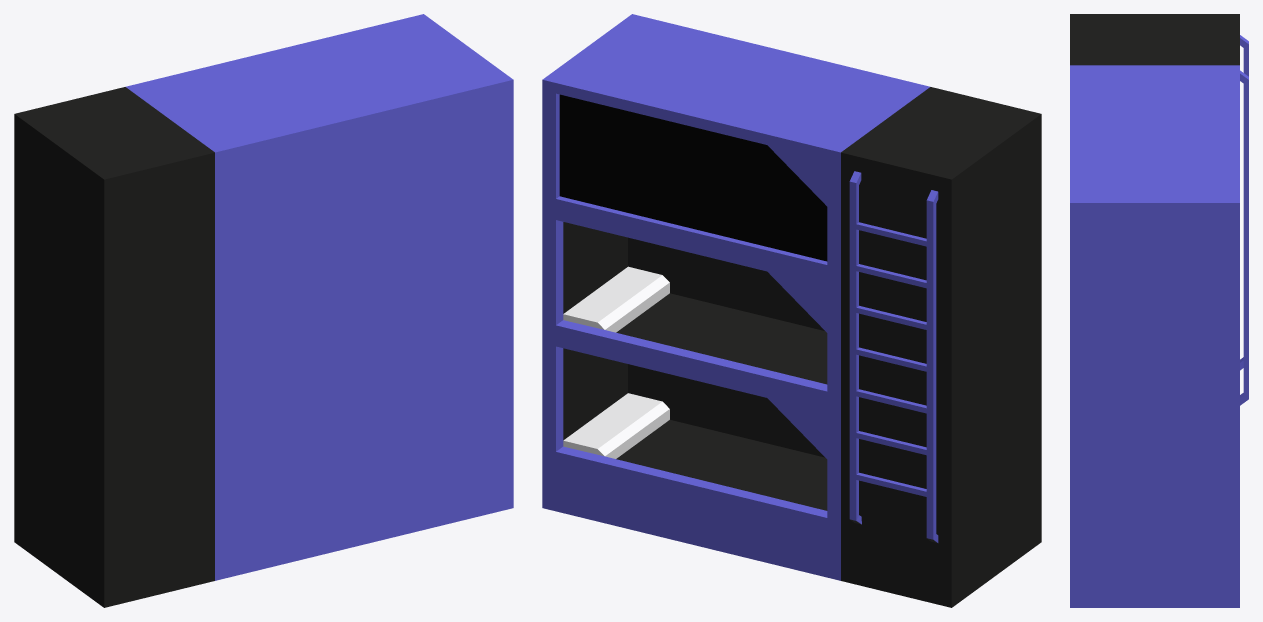
Rendered from Bed_2.1.fbx.
3 views of the same model, side by side, from view 1: azimuth 30°, elevation 25°; view 2: azimuth 150°, elevation 25°; view 3: azimuth 270°, elevation 25° (orthographic). The views are drawn at different scales.
Parts seen in each view (by area): view 1: beds.008; view 2: beds.008; view 3: beds.008.
Part boxes in pixels (left/top/right/bottom): beds.008: left=14, top=14, right=513, bottom=607; beds.008: left=542, top=14, right=1041, bottom=607; beds.008: left=1070, top=14, right=1248, bottom=607.
Size of the model in its own units: 5 by 2 by 5.
